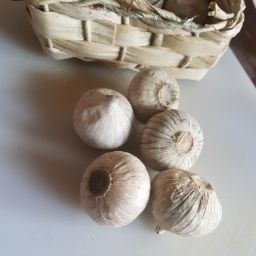Garlic cloves: (69, 65, 213, 170), (79, 150, 228, 242), (79, 150, 154, 230), (154, 171, 227, 244), (72, 85, 138, 149), (145, 110, 207, 170), (128, 67, 186, 123)
